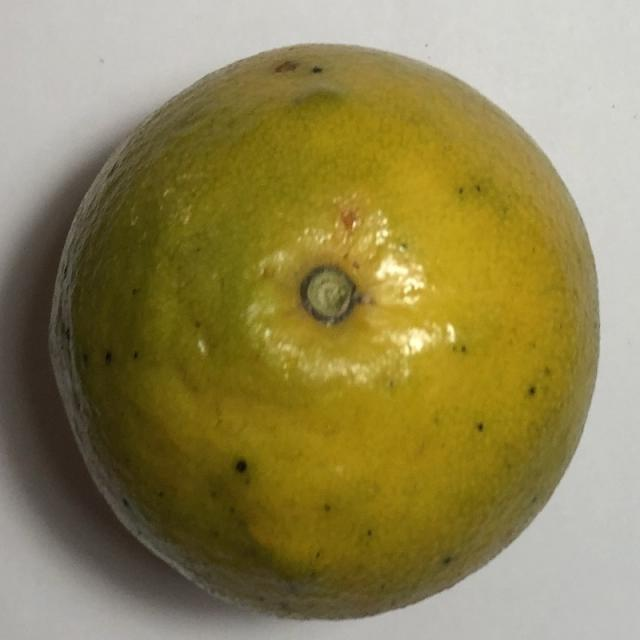blackspot: (31, 30, 610, 624)
